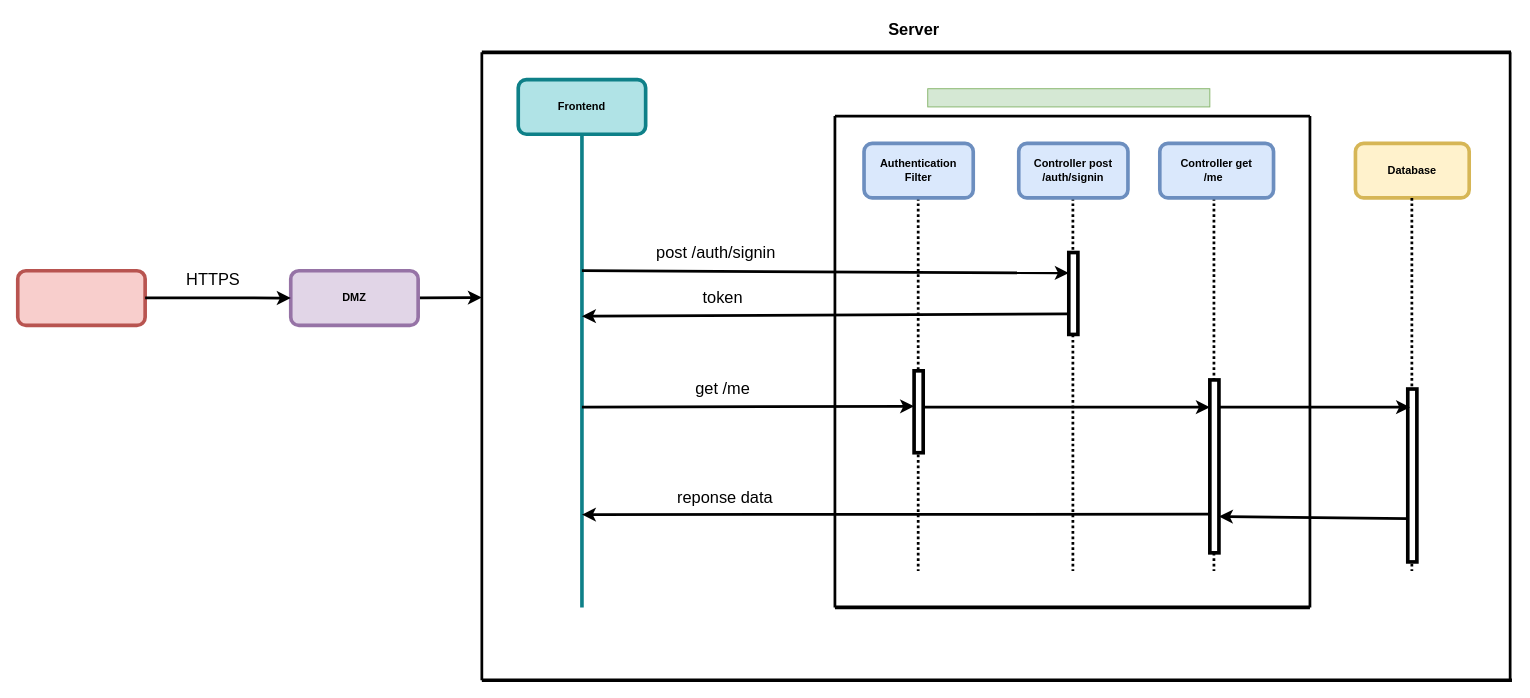
Image size: 1530x698. Some labels were removed from this diagram. Each missing label, with the centre of its shape:
Backend Rest Api Spring boot: (1068,97)
Browser: (81,297)
